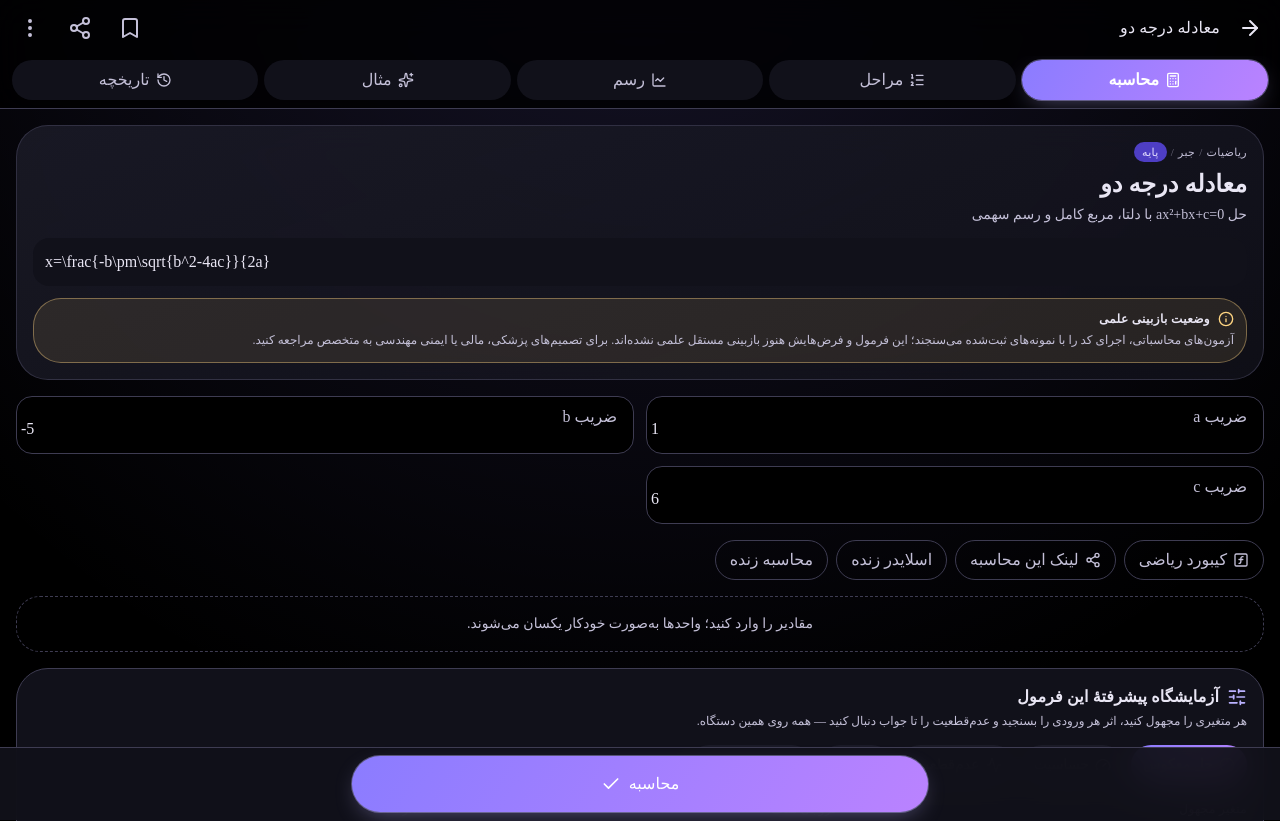
Test case: FormulaSolver flow › blocks computation and explains invalid input
Replace the text in the field labelled "ضریب a" with "abc" at (951, 425), box [651,397,1251,453]
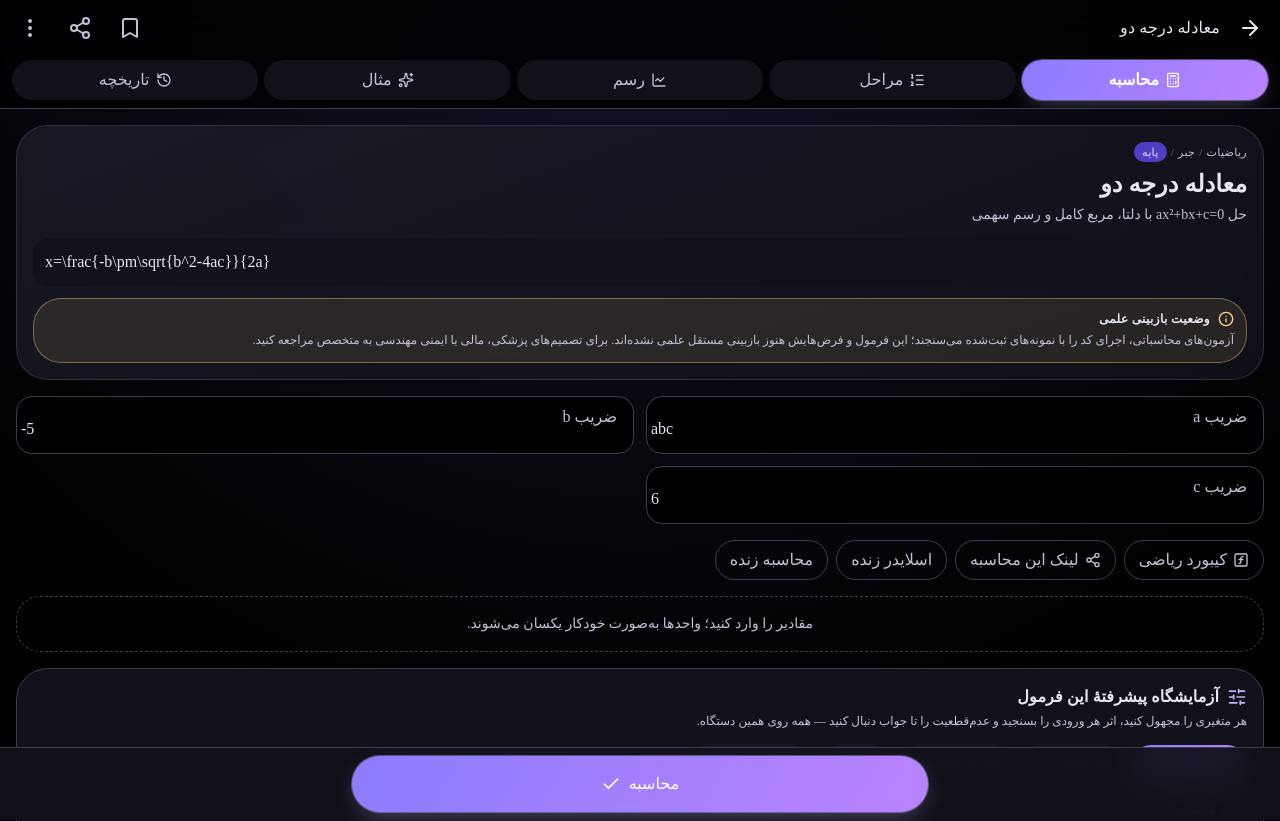
Click the button "محاسبه" at (640, 784), box [352,756,928,812]
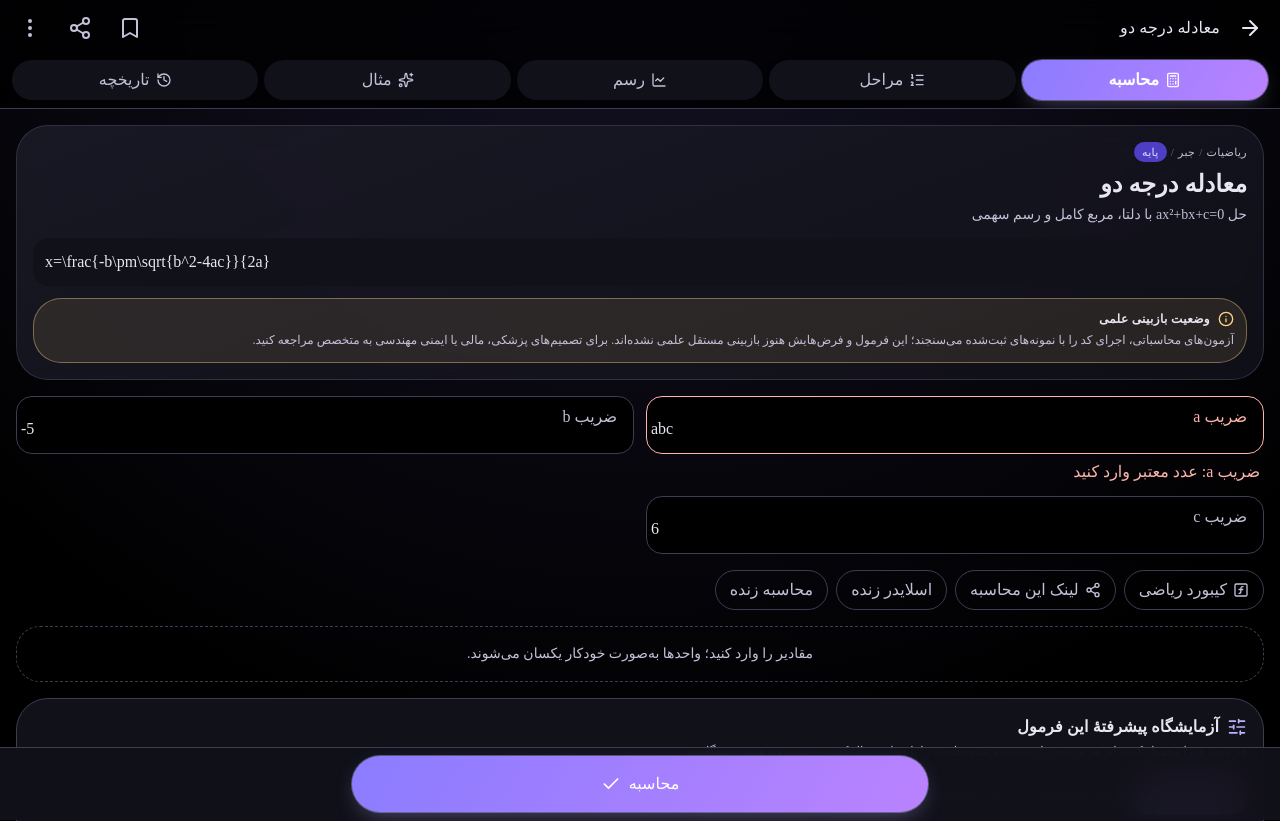
Now the text "ضریب a: عدد معتبر وارد کنید" is shown, box [1073,463,1260,480]
